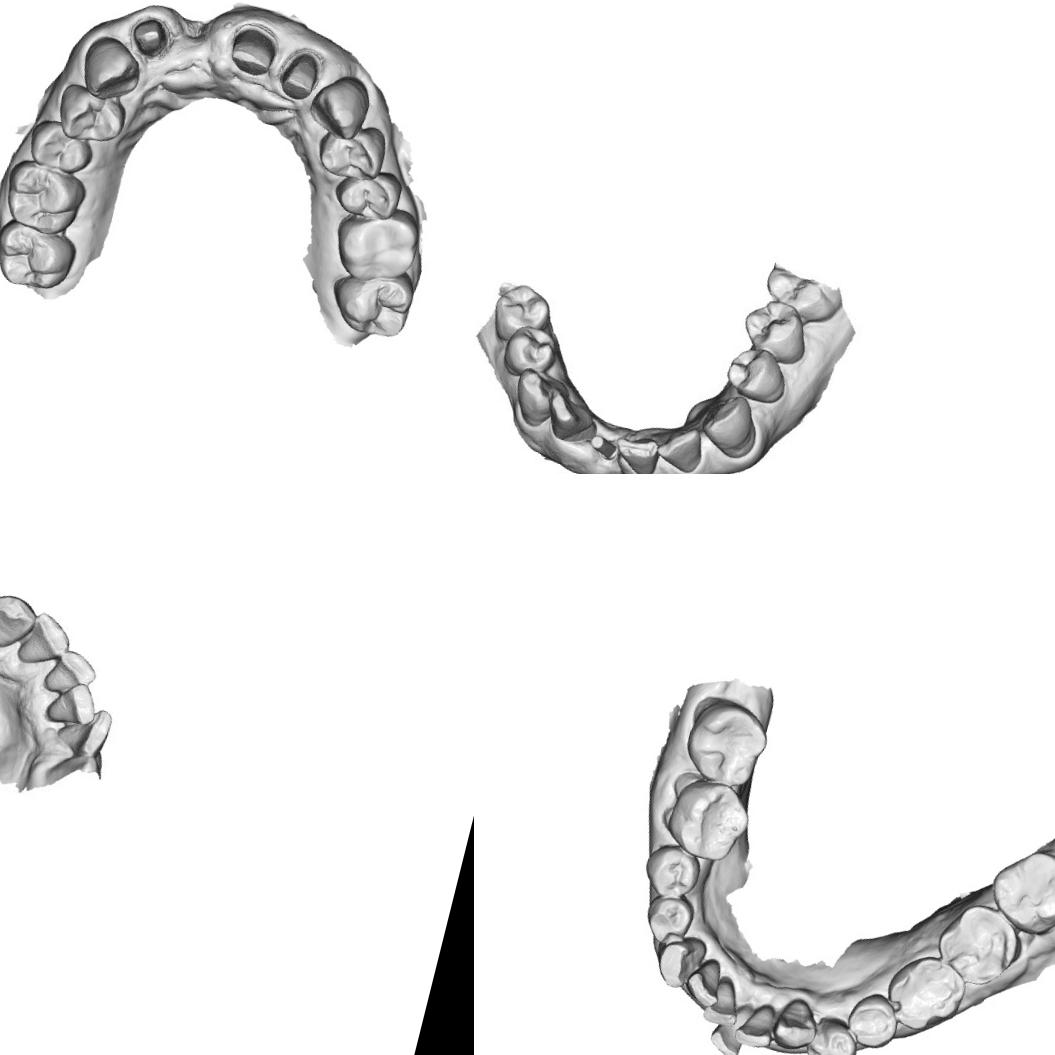abutment: (575, 424, 621, 469)
canine: (74, 30, 149, 108), (302, 65, 375, 144), (696, 388, 764, 463), (650, 926, 711, 994), (768, 990, 825, 1055), (511, 366, 566, 424), (0, 588, 40, 659)
crown: (220, 21, 282, 84), (274, 41, 330, 106), (124, 11, 172, 61)
incisor: (46, 701, 118, 764), (38, 642, 100, 700), (17, 606, 74, 668), (39, 678, 98, 734), (696, 970, 751, 1030), (678, 951, 729, 1013), (730, 992, 781, 1052), (703, 998, 754, 1055), (655, 426, 712, 474), (542, 393, 596, 443), (611, 432, 666, 474)
molar: (926, 893, 1033, 997), (675, 690, 777, 795), (656, 769, 758, 870), (326, 194, 429, 292), (876, 944, 974, 1041), (321, 253, 422, 346), (979, 838, 1055, 944), (0, 155, 92, 240), (0, 216, 82, 299)
premolar: (48, 80, 134, 152), (310, 112, 392, 187), (327, 155, 408, 229), (736, 290, 814, 364), (19, 115, 99, 182), (636, 838, 706, 907), (839, 984, 906, 1054), (722, 344, 789, 408), (638, 888, 698, 952), (798, 1008, 865, 1055), (493, 281, 548, 336), (504, 322, 556, 379)
